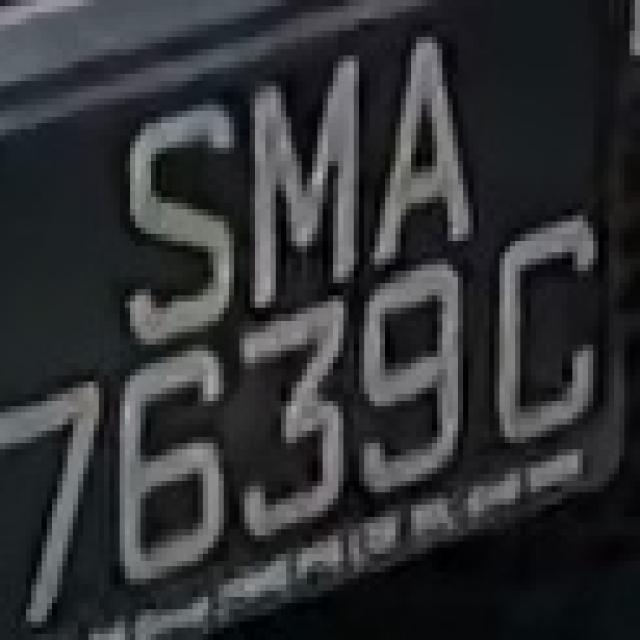3: (213, 301, 364, 554)
6: (104, 332, 245, 585)
7: (5, 369, 109, 628)
9: (333, 271, 474, 486)
A: (354, 31, 494, 271)
C: (479, 228, 598, 449)
M: (229, 43, 364, 295)
S: (110, 80, 240, 338)
